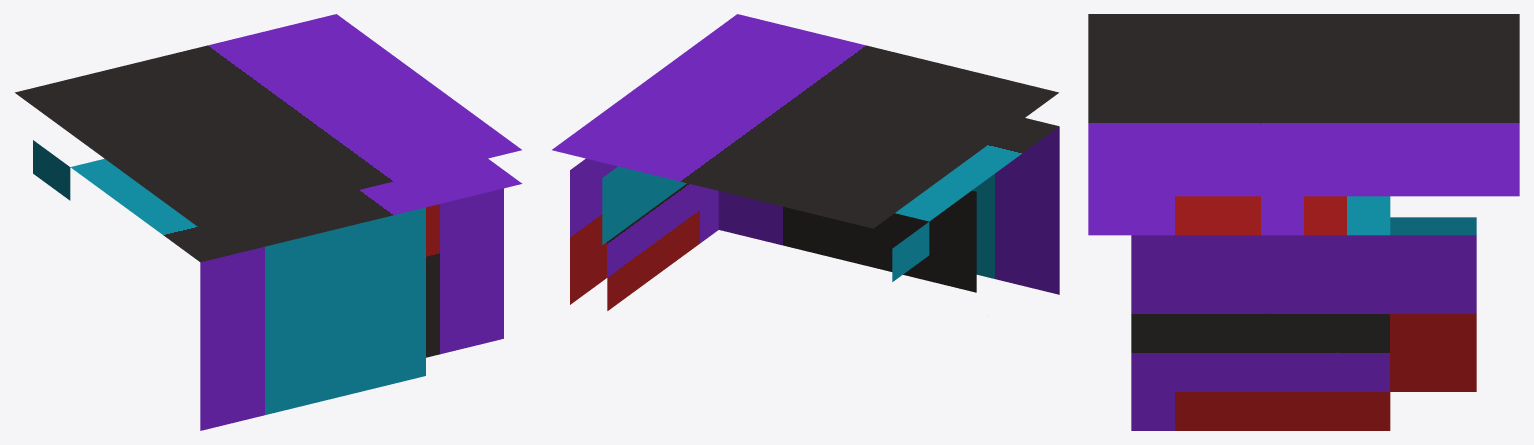
The model's file is StupidHouse.obj.
3 renders of one model, left to right at view 1: azimuth 30°, elevation 25°; view 2: azimuth 150°, elevation 25°; view 3: azimuth 270°, elevation 25°, orthographic. The views are drawn at different scales.
Visible parts, largest first — view 1: House; view 2: House; view 3: House.
Part boxes in pixels (x1,y1,x2,y2): House: [15, 14, 522, 430]; House: [552, 14, 1059, 310]; House: [1088, 14, 1519, 430].
Size of the model in its own units: 0.625 by 0.375 by 0.625.
